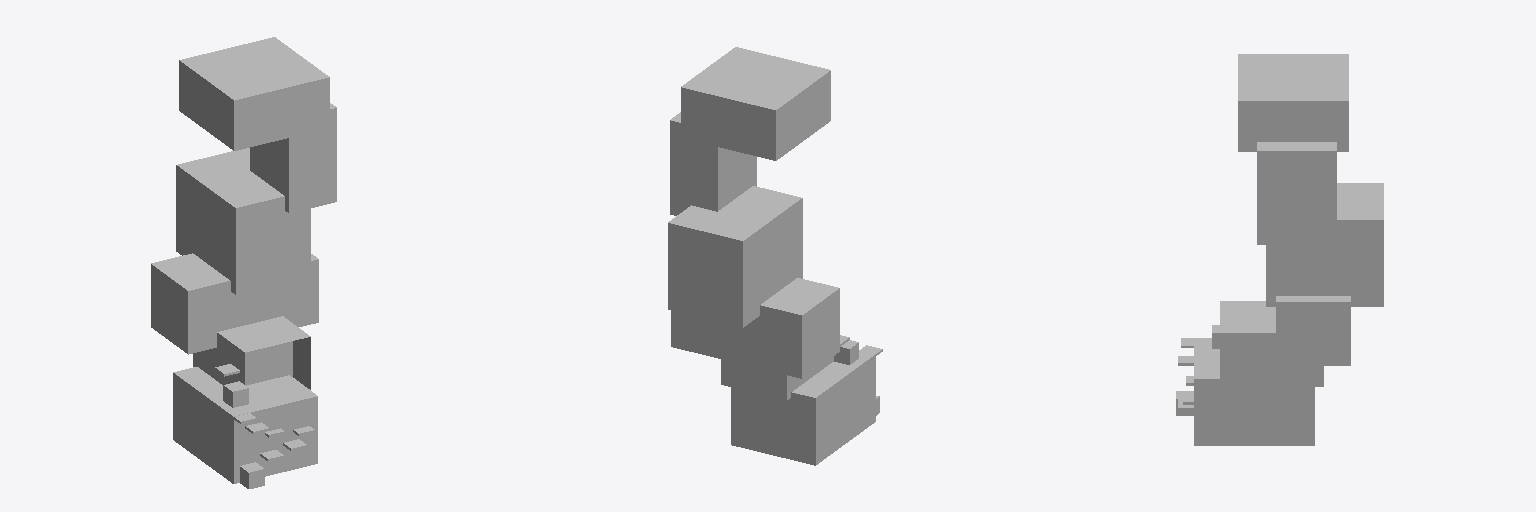
Rendered from tower1.obj.
3 renders of one model, left to right at view 1: azimuth 30°, elevation 25°; view 2: azimuth 150°, elevation 25°; view 3: azimuth 270°, elevation 25°, orthographic.
Visible parts, largest first — view 1: Tower_Cube; view 2: Tower_Cube; view 3: Tower_Cube.
Boxes of the visible parts, x1,y1,x2,y2 form: Tower_Cube: [151, 37, 336, 488]; Tower_Cube: [668, 47, 882, 465]; Tower_Cube: [1176, 54, 1383, 445].
Bounding box in the file's own units: 8.65 × 21.41 × 11.18.